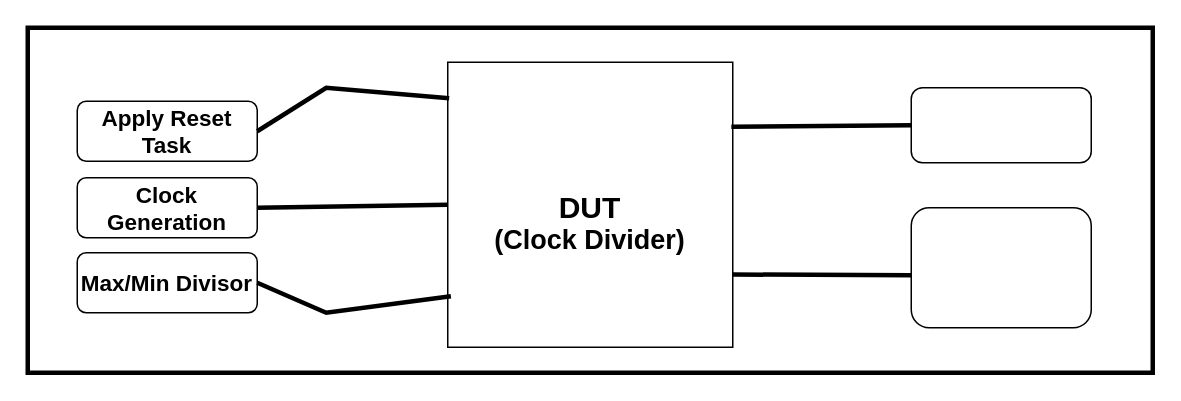
Image size: 1181x401. Some labels were removed from this diagram. Here are the shapes that lost their labels. From the top down, the centre of each, then its label:
At point (1000, 124): "Even/Odd Divisor".
At point (1000, 267): "Frequency/Time Period check task".
